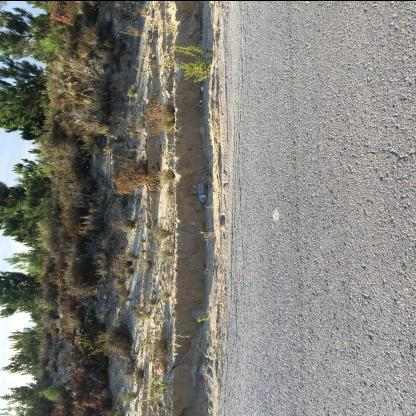plastik: (199, 183, 209, 204)
